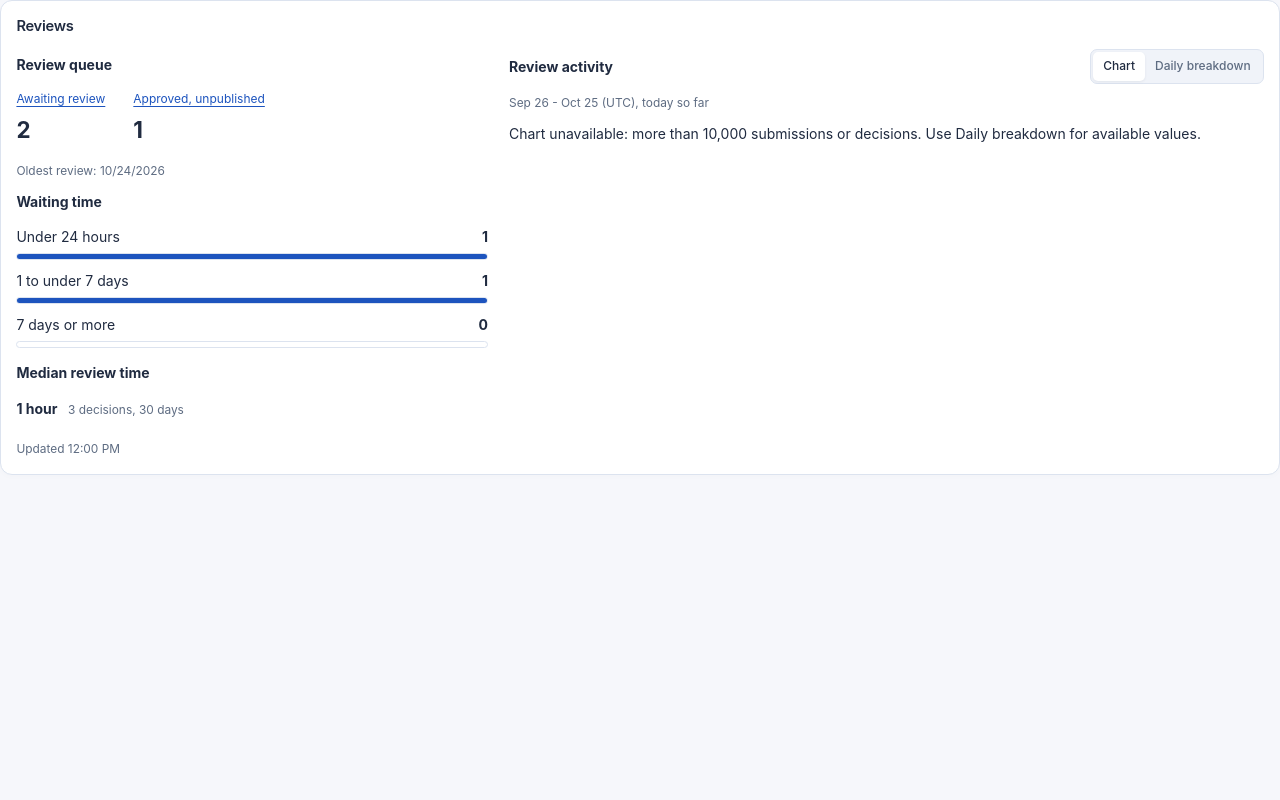
omits incomplete submissions distributions without hiding complete independent measures
Expected: the text "Oldest review:" is shown, [16,163,96,178]
Click the button "Daily breakdown": [1203, 66] box [1145,52,1261,81]
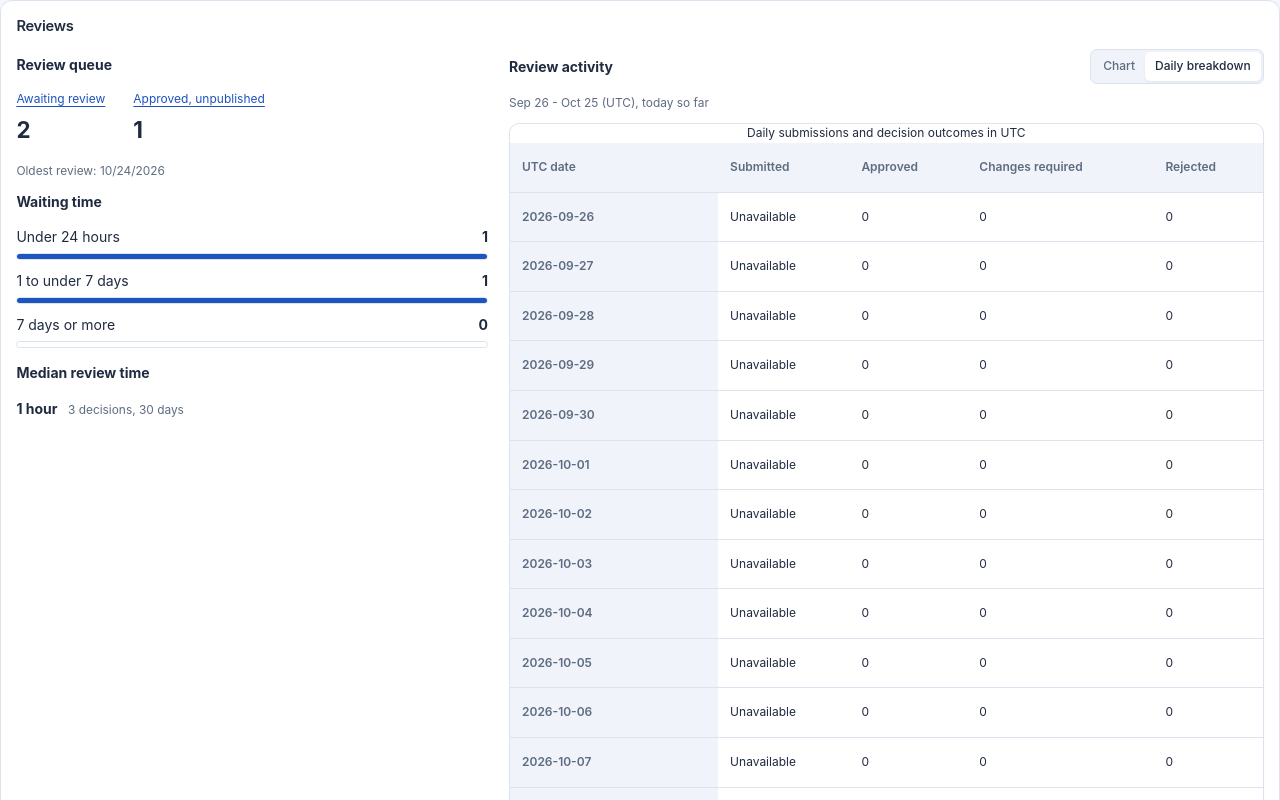
Expected: the heading "Median review time" is shown, [16,364,150,381]
Now the text "Unavailable" next to "2026-09-26" is shown, box [730,208,796,224]
